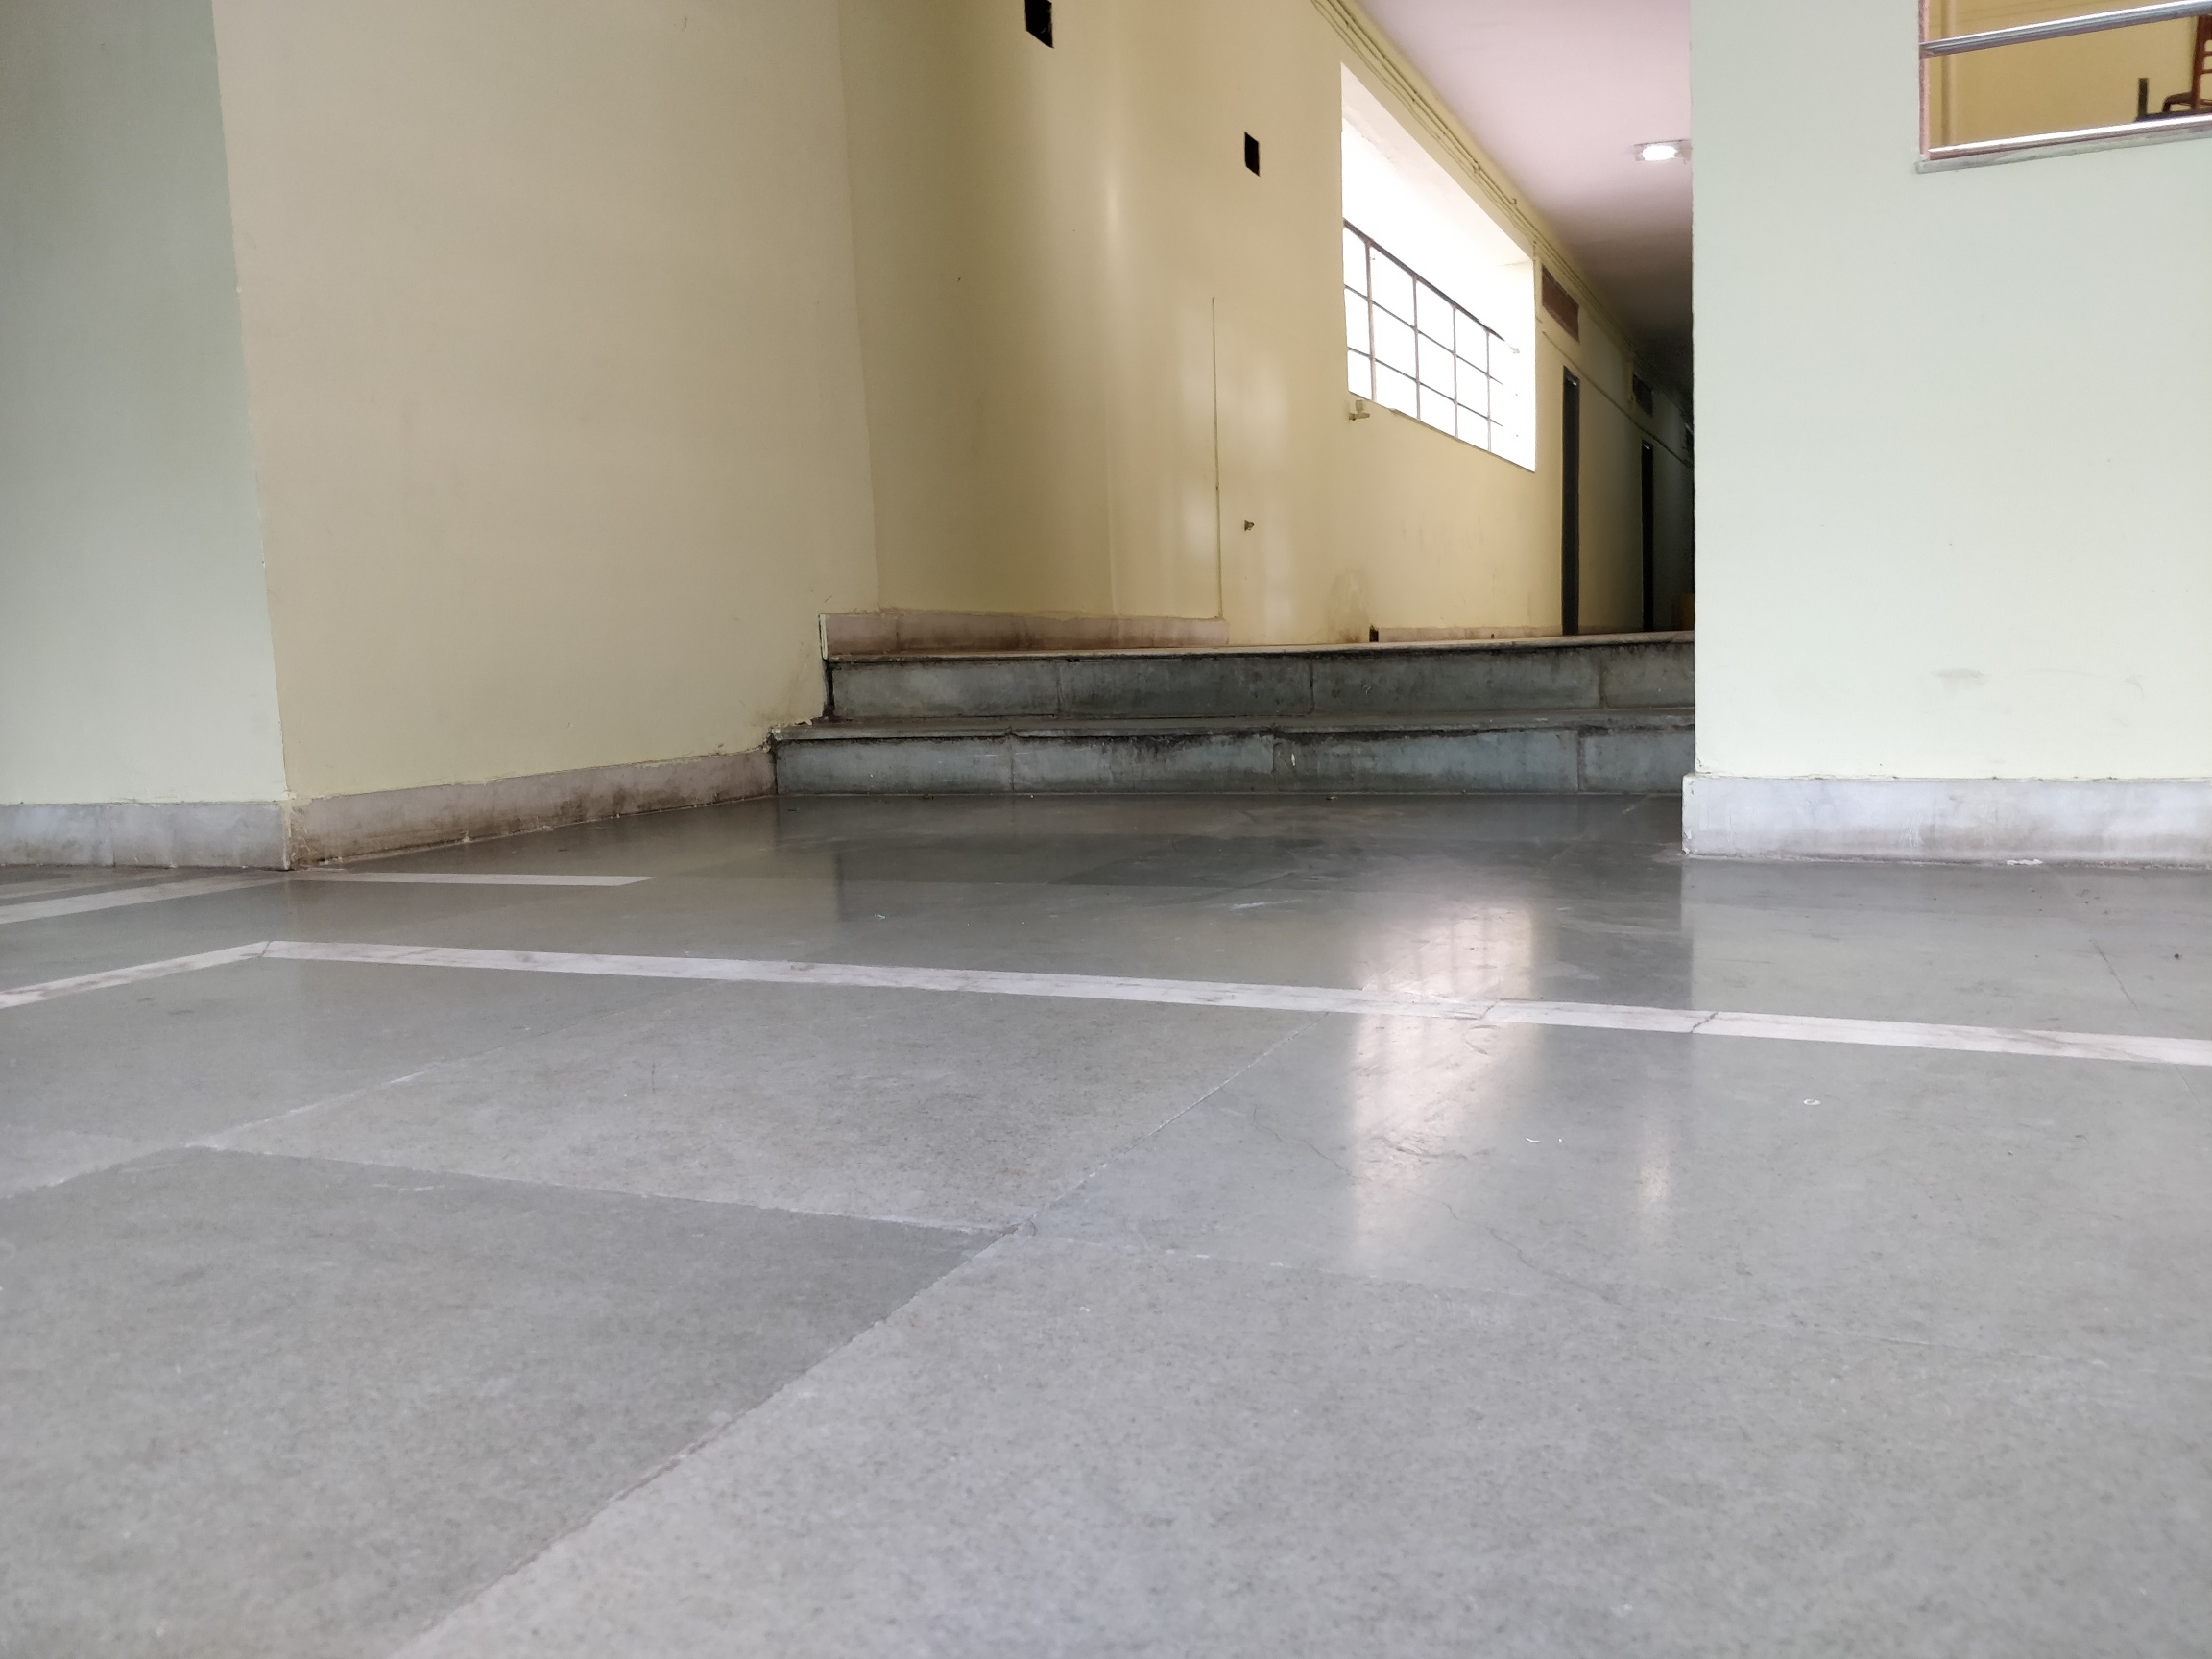stairs_up: (754, 633, 1695, 819)
